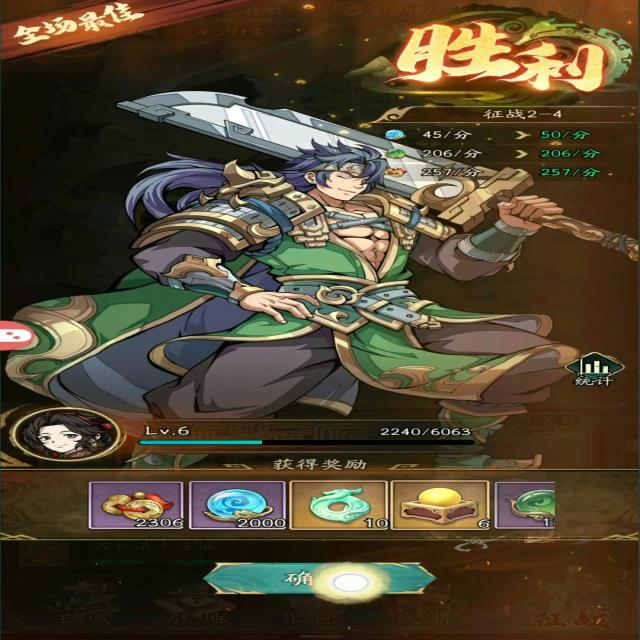operation-confirm: (182, 555, 456, 601)
operation-statistics: (569, 352, 622, 389)
